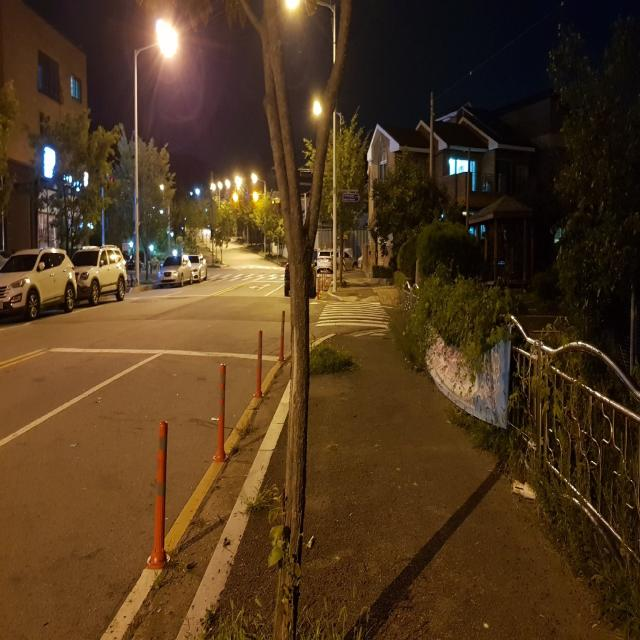횡단보도: (316, 301, 392, 329), (214, 275, 282, 281)
